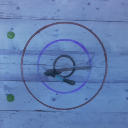Axe Tip: (50, 70, 62, 73)
